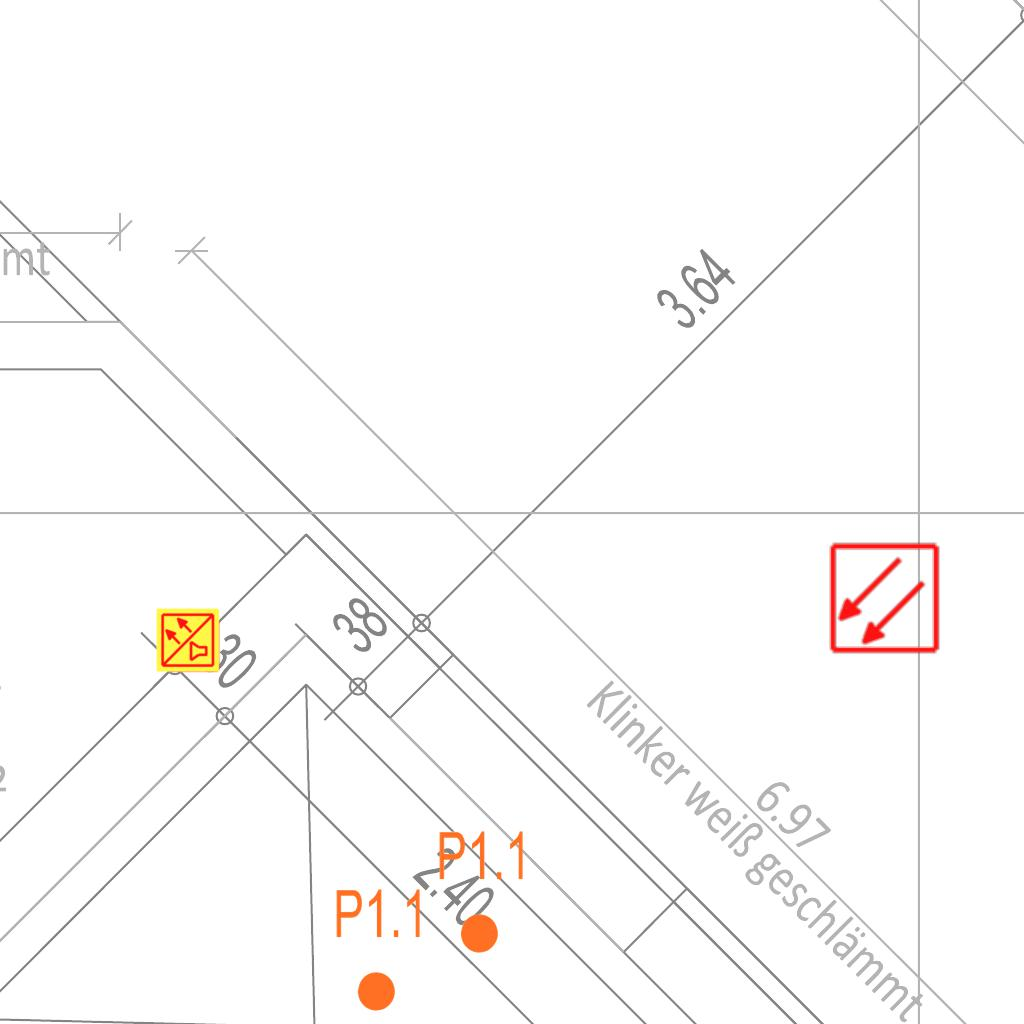Downlight_LED_Einbauleuchten_Flur: (333, 886, 426, 1014), (436, 828, 529, 956)
OKW_Multisensormelder_(Kombination_optischer_Rauch-Kahlenmonoxid_Waerme-Melder): (155, 607, 221, 673)
RMO_Rauchmelder_optischer: (828, 542, 941, 655)
